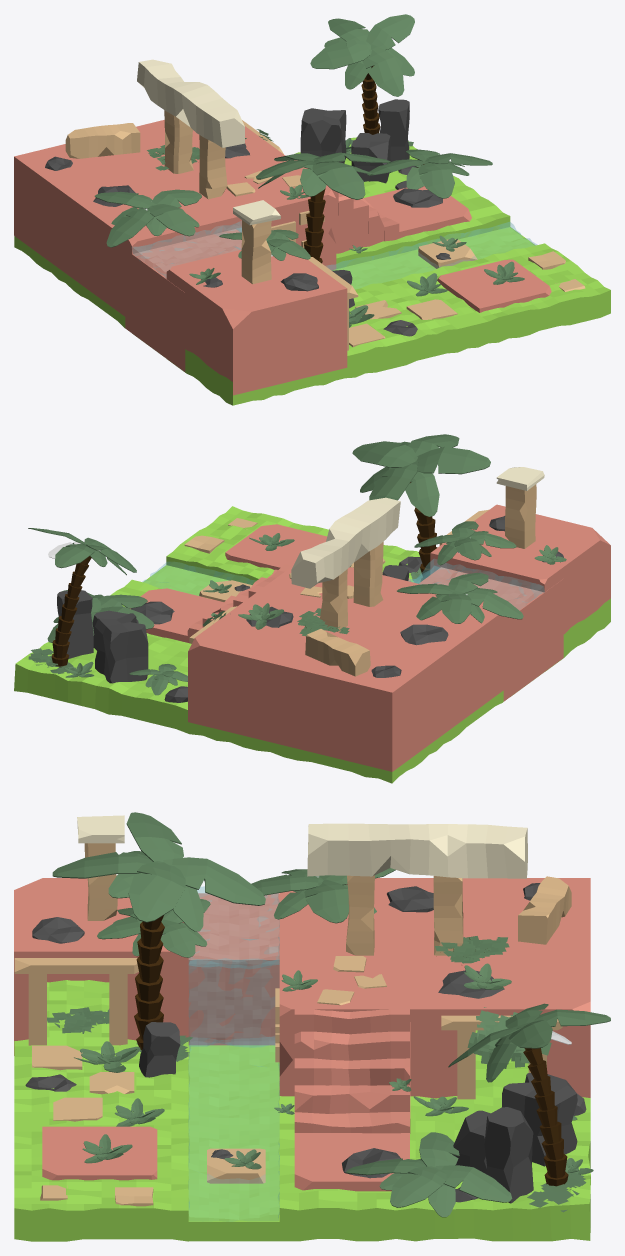
The model's file is praia.fbx.
3 views of the same model, one above another, from view 1: azimuth 30°, elevation 25°; view 2: azimuth 150°, elevation 25°; view 3: azimuth 270°, elevation 25° (orthographic). The views are drawn at different scales.
Parts seen in each view (by area): view 1: Cube.005_Cube.008, Cube.034_Cube, Cube.035_Cube.007, Cube.019_Cube.025, Cube.023_Cube.032, Plane.025_Plane.040, Cube.006_Cube.010, Cube.000_Cube.009, Cube.021_Cube.029, Plane.027_Plane.042, Cube.002_Cube.005, Cube.018_Cube.024 (+25 smaller); view 2: Cube.005_Cube.008, Cube.035_Cube.007, Cube.034_Cube, Cube.019_Cube.025, Plane.025_Plane.040, Cube.013_Cube.019, Cube.006_Cube.010, Cube.002_Cube.005, Cube.021_Cube.029, Plane.026_Plane.041, Cube.018_Cube.024, Cube.024_Cube.033 (+23 smaller); view 3: Cube.005_Cube.008, Cube.034_Cube, Cube.035_Cube.007, Cube.000_Cube.009, Cube.023_Cube.032, Cube.007_Cube.011, Cube.019_Cube.025, Cube.022_Cube.030, Plane.027_Plane.042, Cube.006_Cube.010, Cube.021_Cube.029, Cube.002_Cube.005 (+45 smaller).
Part boxes in pixels (box(x1,y1,x2,y2)): Cube.005_Cube.008: box(14, 120, 347, 395); Cube.034_Cube: box(167, 243, 610, 405); Cube.035_Cube.007: box(14, 137, 510, 327); Cube.019_Cube.025: box(137, 59, 244, 147); Cube.023_Cube.032: box(326, 222, 537, 288); Plane.025_Plane.040: box(94, 189, 201, 247); Cube.006_Cube.010: box(437, 259, 551, 312); Cube.000_Cube.009: box(133, 227, 535, 356); Cube.021_Cube.029: box(131, 221, 241, 277); Plane.027_Plane.042: box(367, 149, 492, 198); Cube.002_Cube.005: box(364, 186, 471, 238); Cube.018_Cube.024: box(65, 123, 140, 158); Cube.005_Cube.008: box(188, 504, 610, 771); Cube.035_Cube.007: box(14, 579, 503, 783); Cube.034_Cube: box(166, 506, 610, 671); Cube.019_Cube.025: box(291, 497, 400, 588); Plane.025_Plane.040: box(397, 572, 523, 623); Cube.013_Cube.019: box(95, 613, 148, 683); Cube.006_Cube.010: box(225, 524, 326, 569); Cube.002_Cube.005: box(130, 588, 223, 642); Cube.021_Cube.029: box(408, 559, 544, 609); Plane.026_Plane.041: box(414, 521, 516, 565); Cube.018_Cube.024: box(305, 629, 370, 676); Cube.024_Cube.033: box(505, 484, 536, 548); Cube.005_Cube.008: box(14, 878, 590, 1098); Cube.034_Cube: box(14, 980, 188, 1241); Cube.035_Cube.007: box(279, 1030, 590, 1241); Cube.000_Cube.009: box(188, 1045, 279, 1241); Cube.023_Cube.032: box(188, 1037, 279, 1221); Cube.007_Cube.011: box(294, 1009, 409, 1133); Cube.019_Cube.025: box(307, 823, 527, 878); Cube.022_Cube.030: box(189, 958, 278, 1047); Plane.027_Plane.042: box(346, 1132, 512, 1217); Cube.006_Cube.010: box(42, 1126, 157, 1180); Cube.021_Cube.029: box(189, 886, 279, 968); Cube.002_Cube.005: box(294, 1133, 409, 1191).
Bounding box in the file's own units: 1120 × 469 × 1036.
